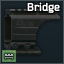P226 bridge sight mount: (0, 0, 64, 64)
